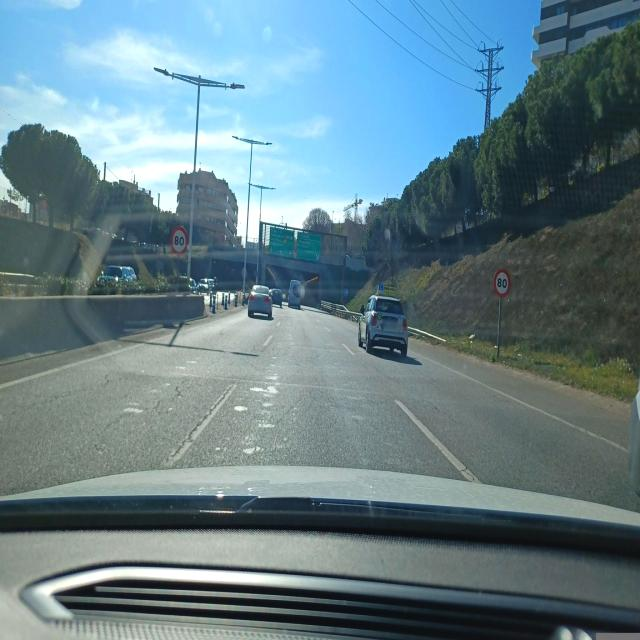car: (357, 294, 408, 358), (626, 364, 640, 514), (95, 264, 137, 290), (248, 284, 274, 320), (270, 288, 283, 307)
